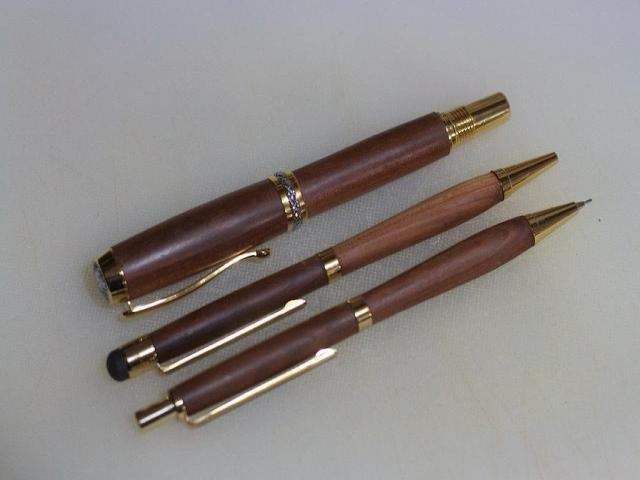PEN: (87, 85, 596, 412), (110, 156, 623, 466), (60, 26, 544, 342)
